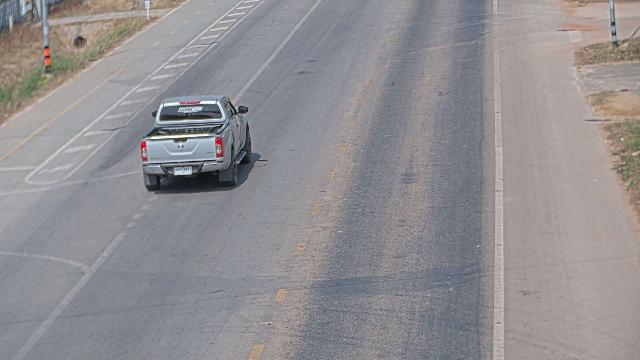pickup-truck: (139, 94, 252, 191)
